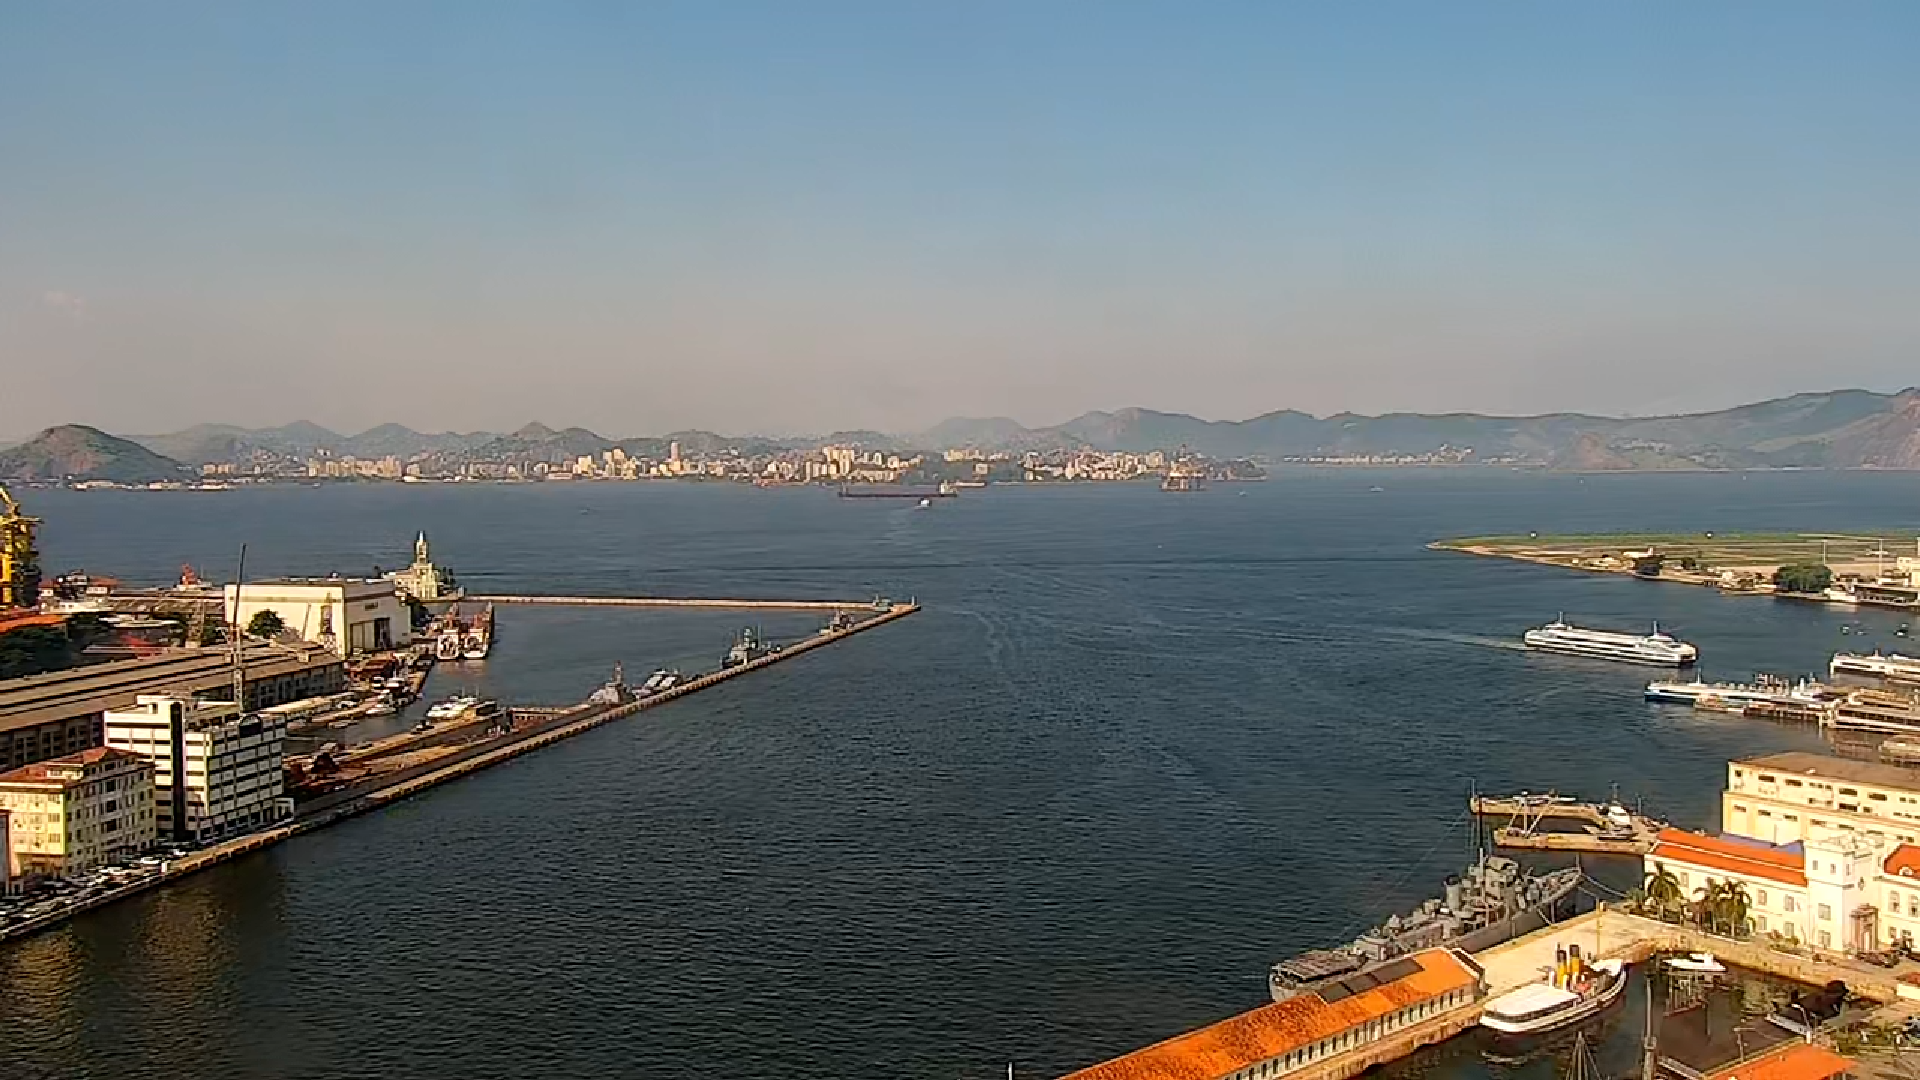Ship0: (1242, 837, 1592, 1000), (713, 620, 775, 671), (462, 621, 489, 661), (433, 622, 462, 659)
Ship1: (1516, 600, 1702, 673), (1636, 671, 1826, 716), (1826, 638, 1911, 680)
Ship2: (832, 477, 963, 498)
Ship7: (919, 497, 931, 508)
Ship8: (1464, 945, 1631, 1043)
